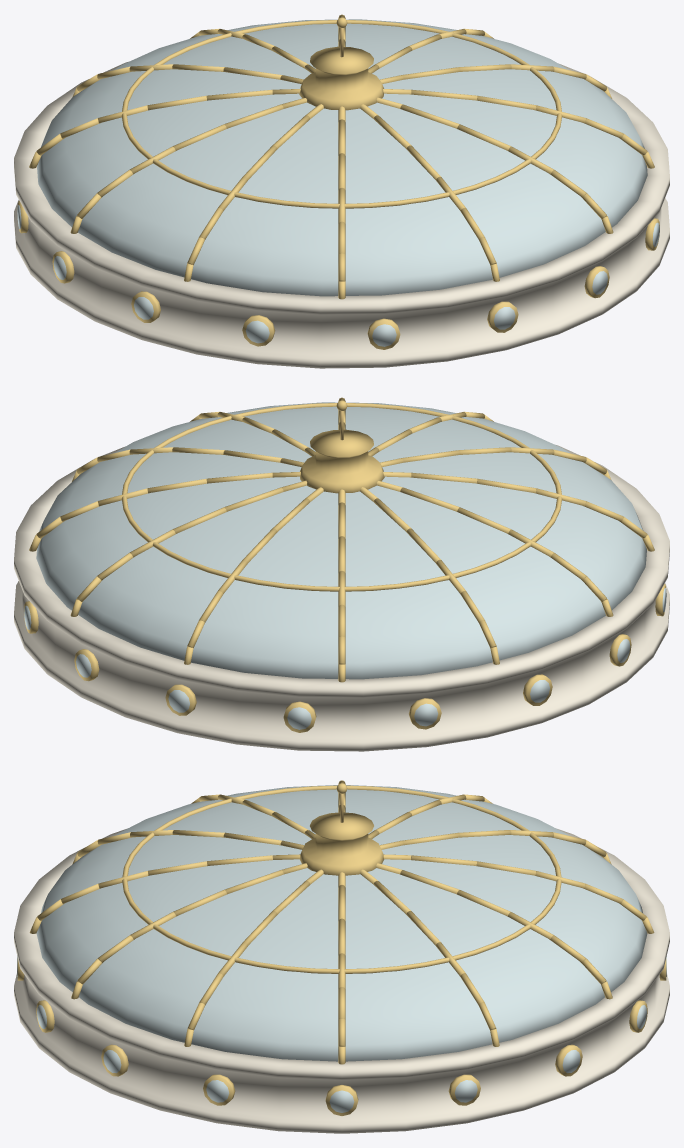
Rendered from rotonda.glb.
The picture shows the model from 3 angles, top to bottom: view 1: azimuth 30°, elevation 25°; view 2: azimuth 150°, elevation 25°; view 3: azimuth 270°, elevation 25°; orthographic projection.
Visible parts, largest first — view 1: cupola_vetri, tamburo, cupola_anello, lanterna; view 2: cupola_vetri, tamburo, cupola_anello, lanterna; view 3: cupola_vetri, tamburo, cupola_anello, lanterna.
Part boxes in pixels (x1,y1,x2,y2): cupola_vetri: (37, 19, 647, 296); tamburo: (14, 62, 669, 368); cupola_anello: (121, 20, 562, 208); lanterna: (299, 46, 383, 110); cupola_vetri: (36, 402, 646, 679); tamburo: (14, 445, 669, 751); cupola_anello: (121, 403, 562, 591); lanterna: (300, 429, 384, 493); cupola_vetri: (36, 785, 647, 1061); tamburo: (14, 828, 669, 1133); cupola_anello: (122, 785, 561, 973); lanterna: (299, 812, 384, 875).
Bounding box in the file's own units: 22.3 × 7.93 × 22.3.
